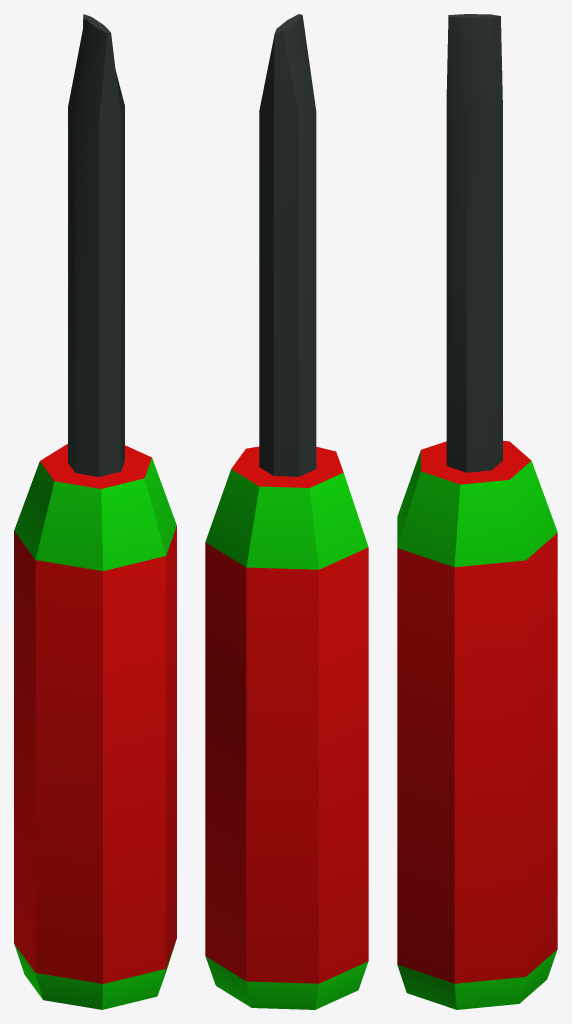
The model's file is SM_ScrewDriver.fbx.
The picture shows the model from 3 angles, left to right: view 1: azimuth 30°, elevation 25°; view 2: azimuth 150°, elevation 25°; view 3: azimuth 270°, elevation 25°; orthographic projection.
Parts seen in each view (by area): view 1: SM_Screw_Driver; view 2: SM_Screw_Driver; view 3: SM_Screw_Driver.
Part boxes in pixels (<box>): SM_Screw_Driver: <box>14,14,176,1009</box>; SM_Screw_Driver: <box>205,14,368,1009</box>; SM_Screw_Driver: <box>397,14,557,1009</box>.
Bounding box in the file's own units: 6.44 × 6.61 × 42.63.
